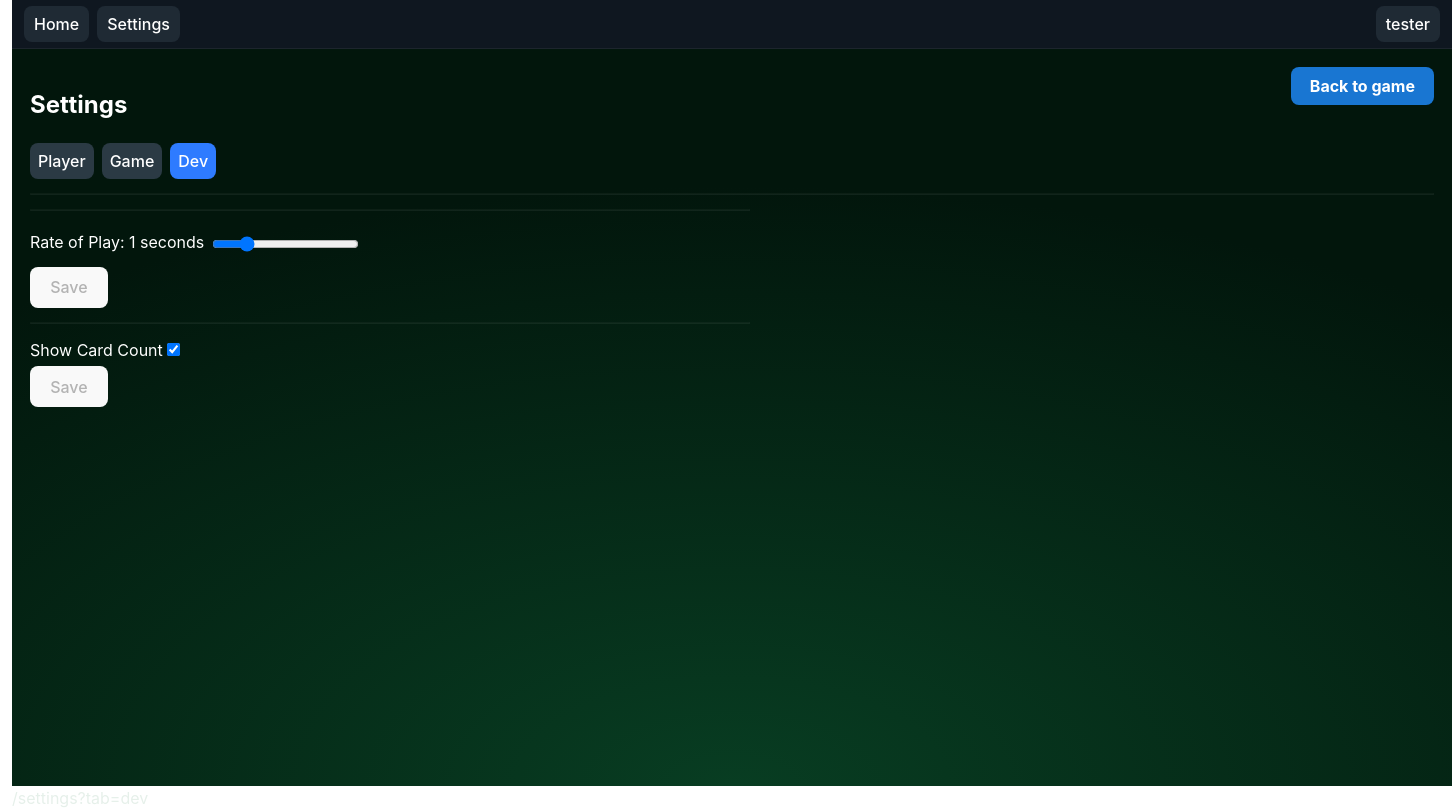
Test: Settings › Back to game, then the header's Settings, returns to the same tab
This screenshot has width=1452, height=810.
Step 1. Click the button "Back to game" → (1362, 86), box [1291, 67, 1434, 105]
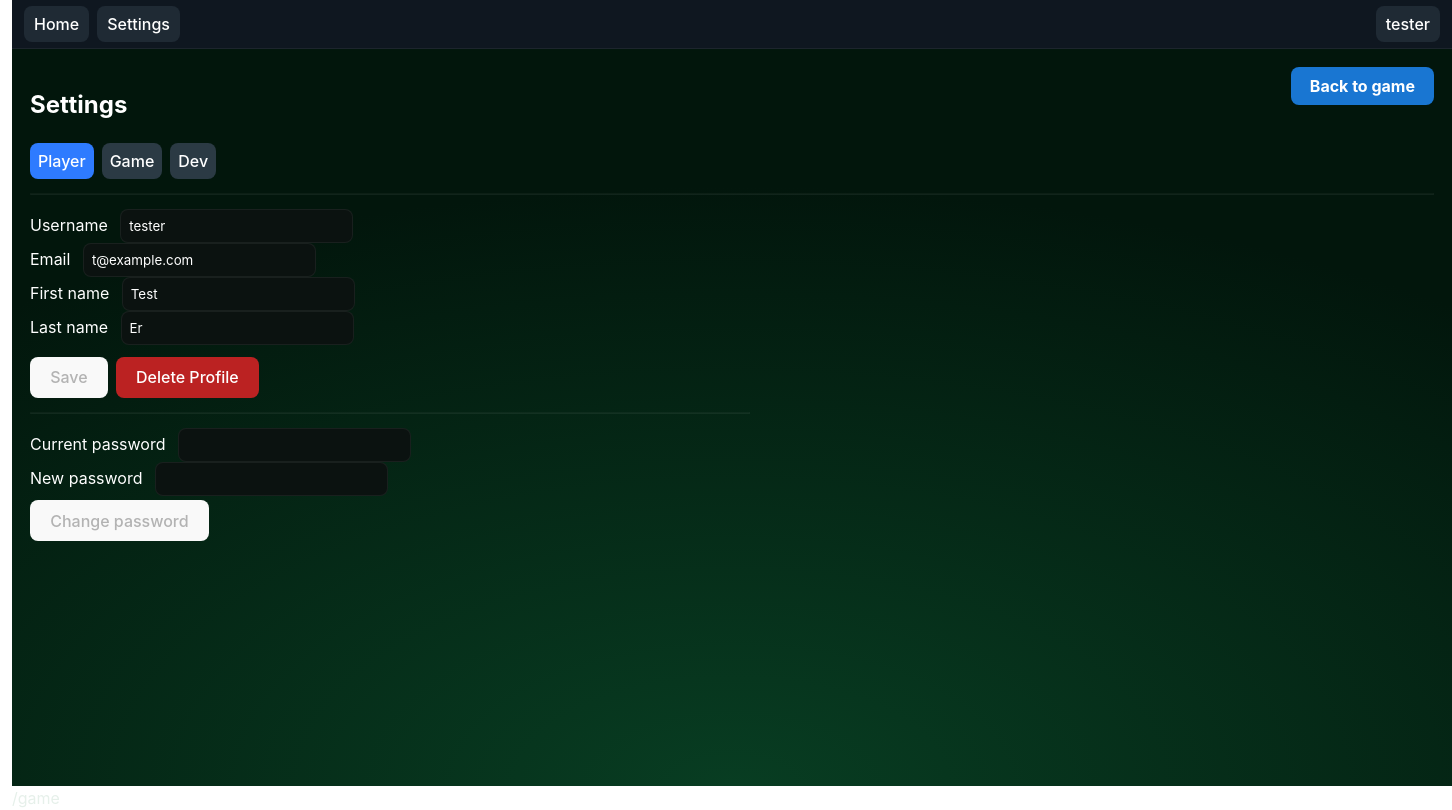
Result: the text with test id "location" reads "/game" at [12, 788, 60, 808]
Step 2. Click the button "Settings" → (139, 24), box [97, 6, 180, 42]
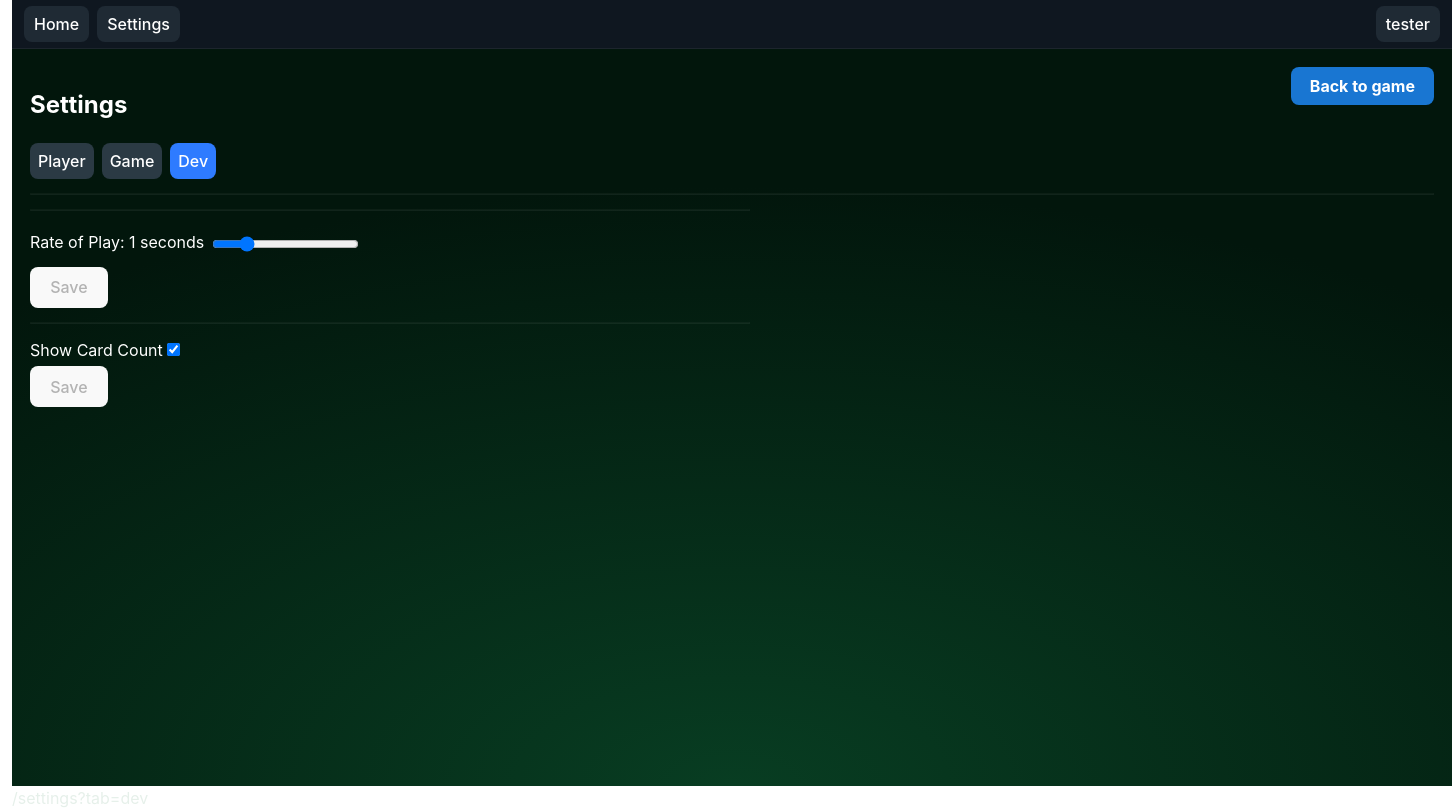
Result: the text with test id "location" reads "/settings?tab=dev" at [12, 788, 148, 808]
Step 3. Click the tab "Player" → (62, 161), box [30, 143, 94, 179]
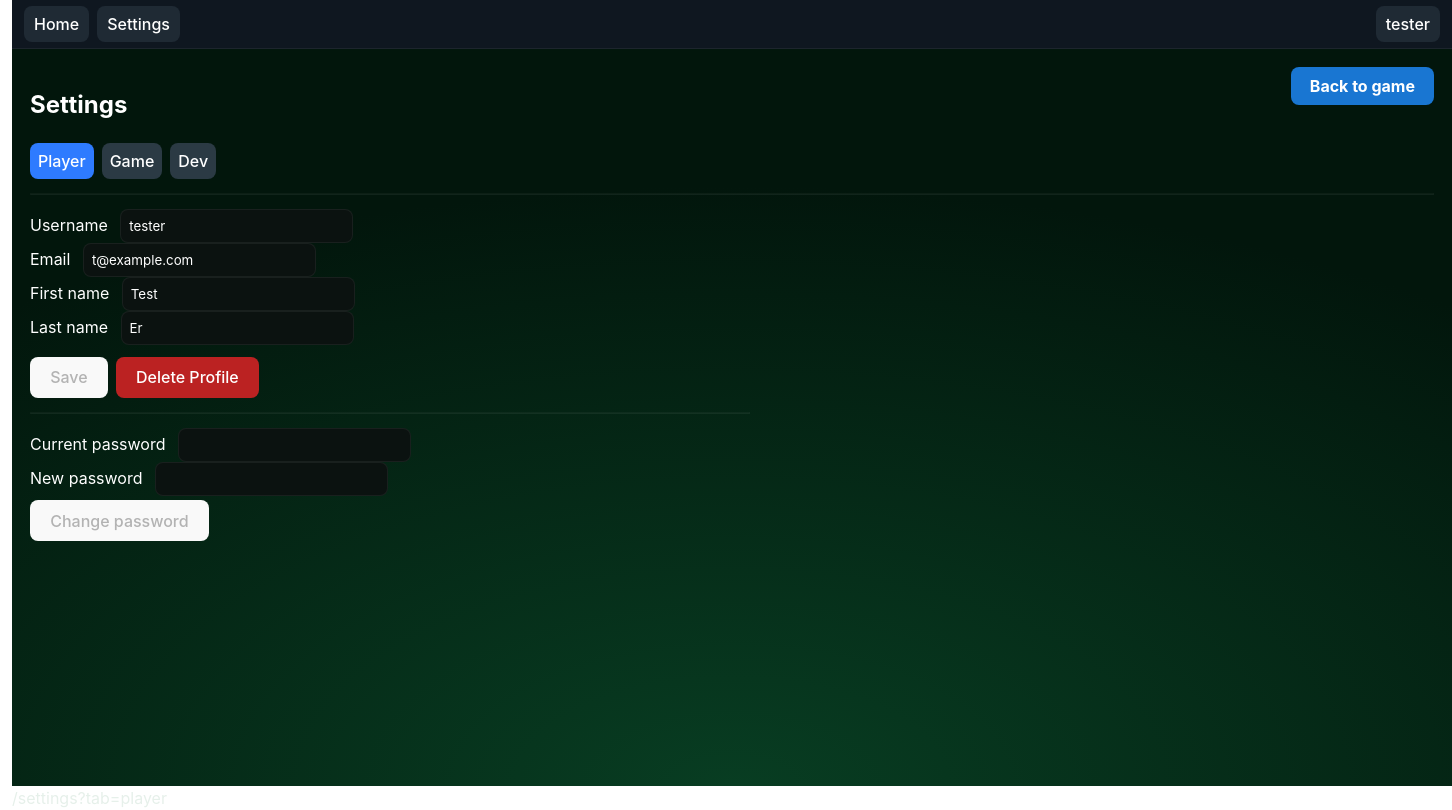
Step 4. Click the button "Back to game" → (1362, 86), box [1291, 67, 1434, 105]
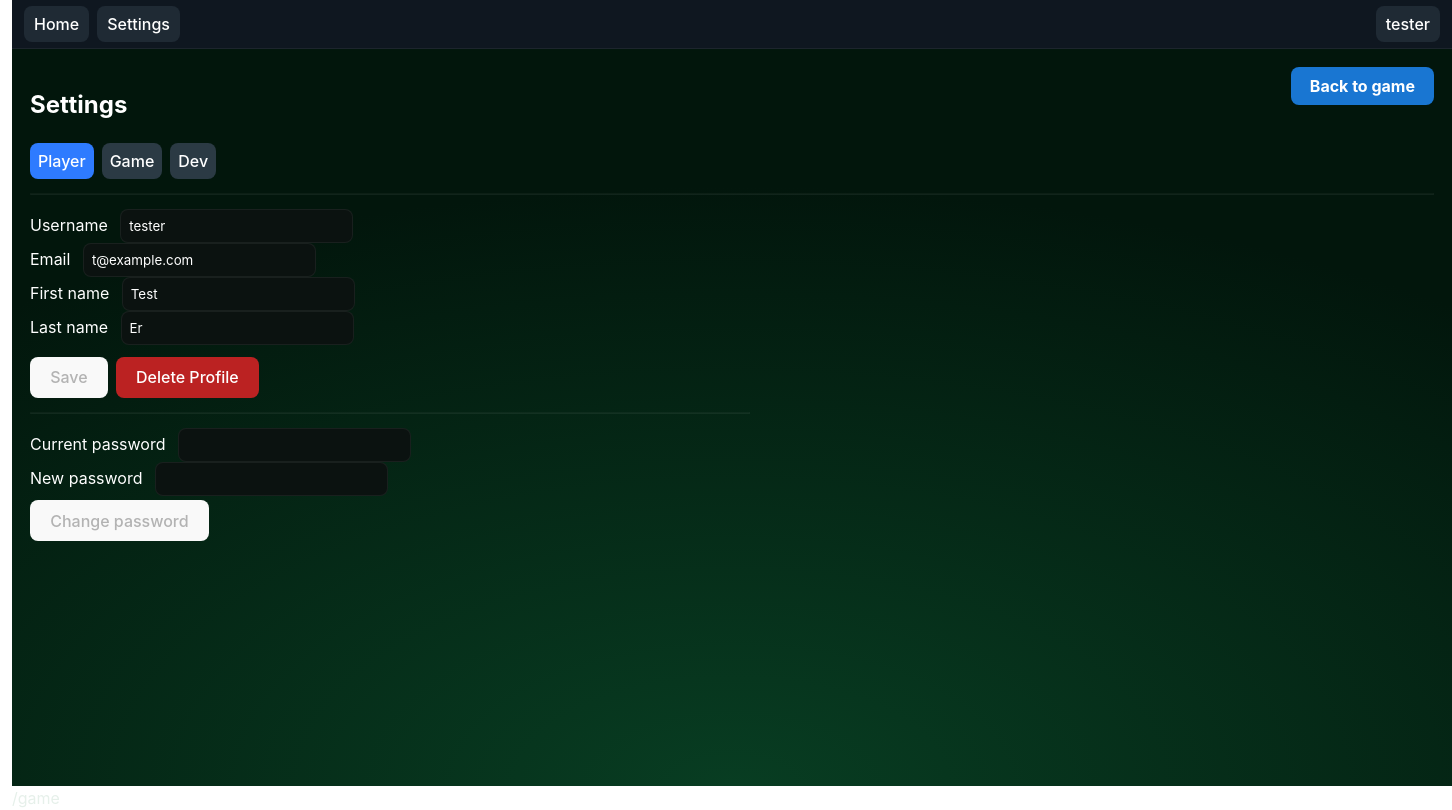
Step 5. Click the button "Settings" → (139, 24), box [97, 6, 180, 42]
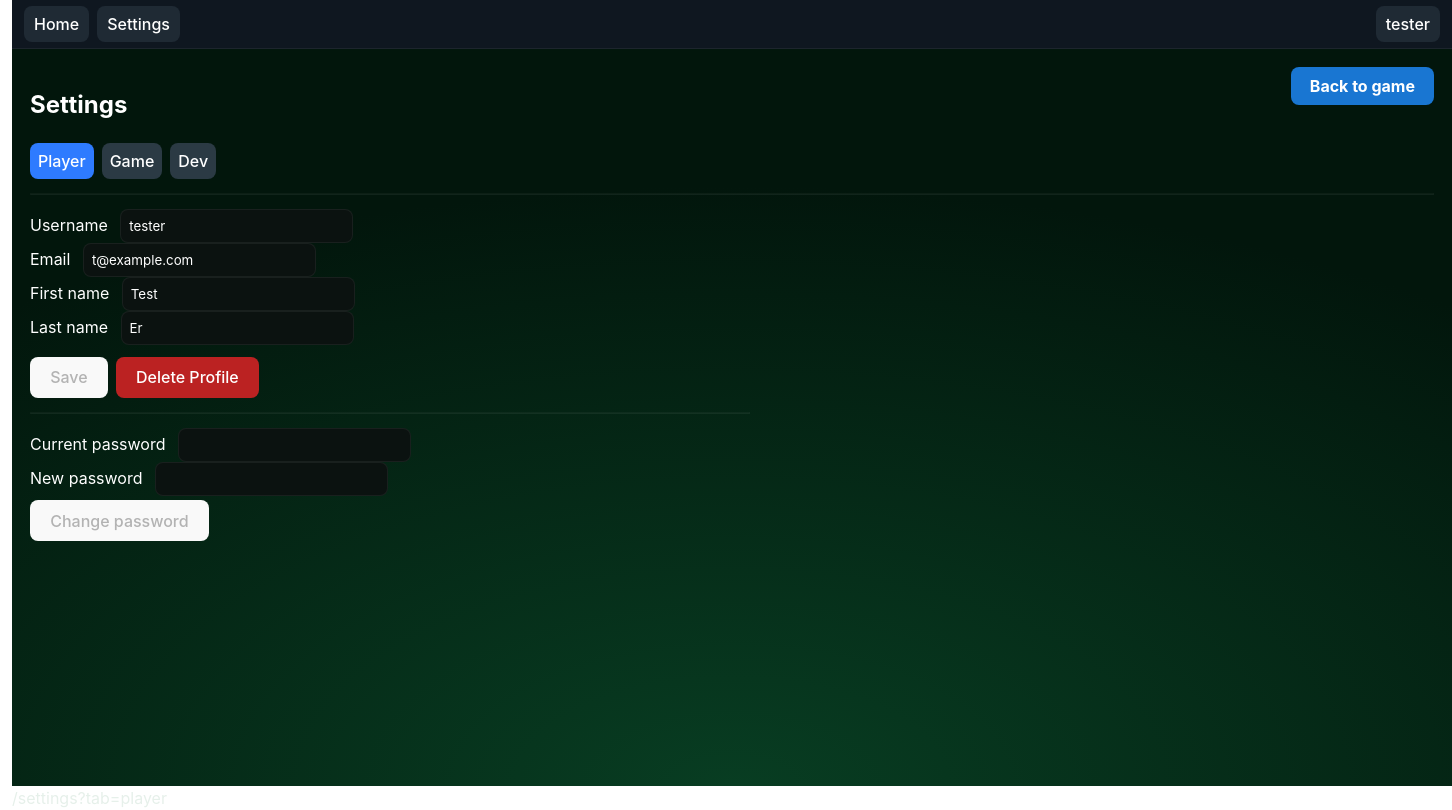
Result: the text with test id "location" reads "/settings?tab=player" at [12, 788, 167, 808]
